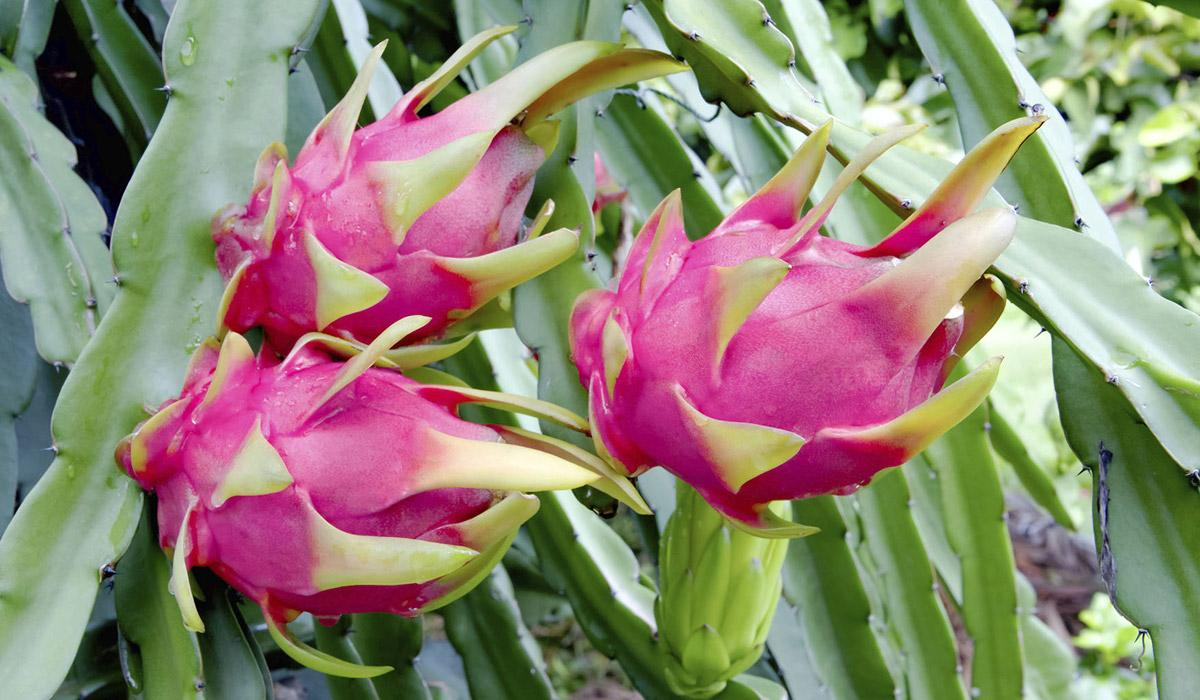dragon fruit: (568, 113, 1071, 533), (95, 321, 660, 666), (204, 8, 670, 358)
